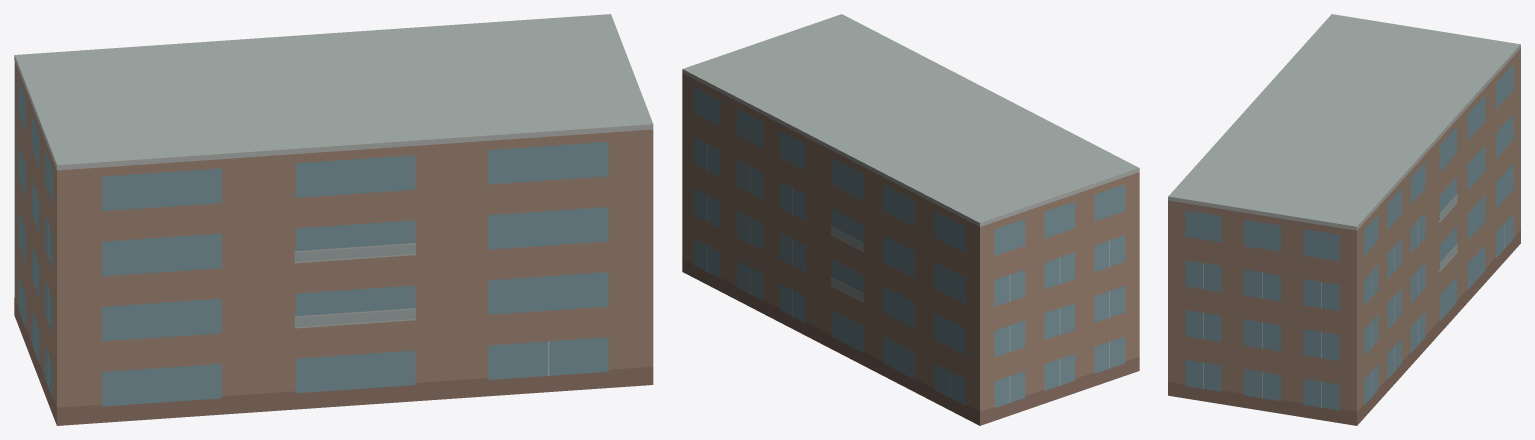
File: residential-7971befd-af34-474d-9fdf-0f5c5f95ed8b.glb
The picture shows the model from 3 angles, left to right: view 1: azimuth 30°, elevation 25°; view 2: azimuth 150°, elevation 25°; view 3: azimuth 270°, elevation 25°; orthographic projection. The views are drawn at different scales.
Parts seen in each view (by area): view 1: residential-7971befd-af34-474d-9fdf-0f5c5f95ed8b.tmp; view 2: residential-7971befd-af34-474d-9fdf-0f5c5f95ed8b.tmp; view 3: residential-7971befd-af34-474d-9fdf-0f5c5f95ed8b.tmp.
Part boxes in pixels (bbox=[...]): residential-7971befd-af34-474d-9fdf-0f5c5f95ed8b.tmp: bbox=[14, 14, 653, 425]; residential-7971befd-af34-474d-9fdf-0f5c5f95ed8b.tmp: bbox=[682, 14, 1139, 425]; residential-7971befd-af34-474d-9fdf-0f5c5f95ed8b.tmp: bbox=[1168, 14, 1520, 425].
Size of the model in its own units: 27.96 by 12.2 by 19.59.
